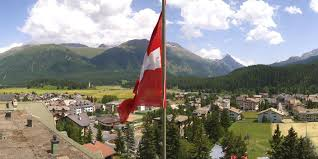Flag: (115, 9, 167, 124)
